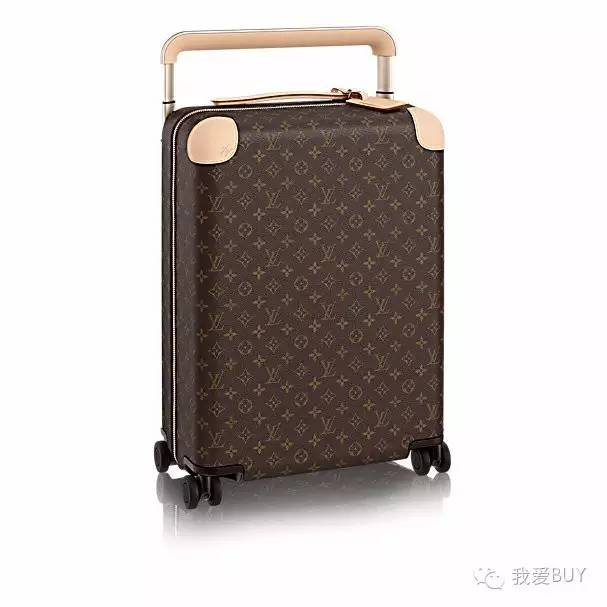luggage: (153, 27, 454, 508)
